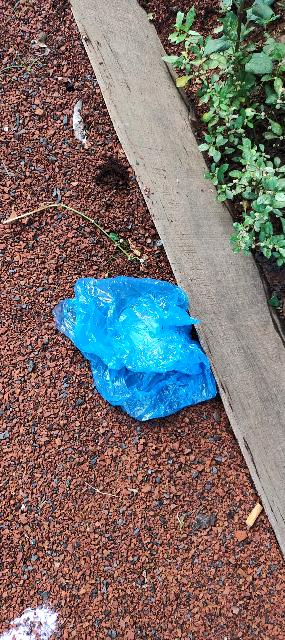polythene: (50, 268, 223, 422)
